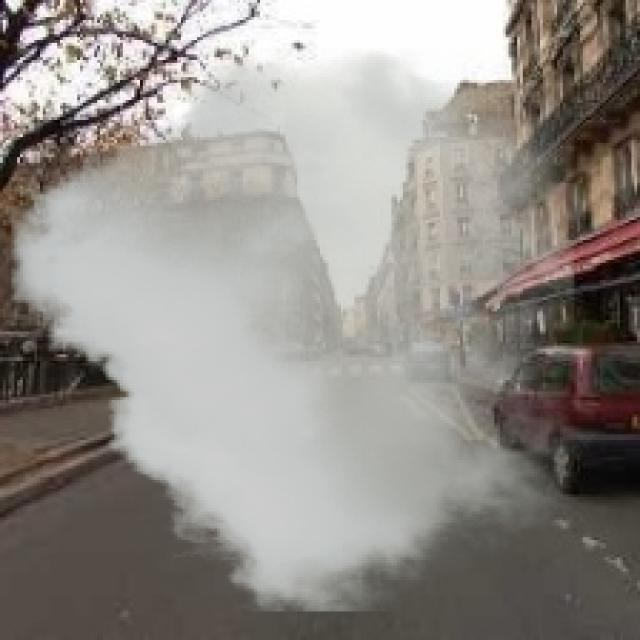Smoke: (12, 49, 574, 612)
